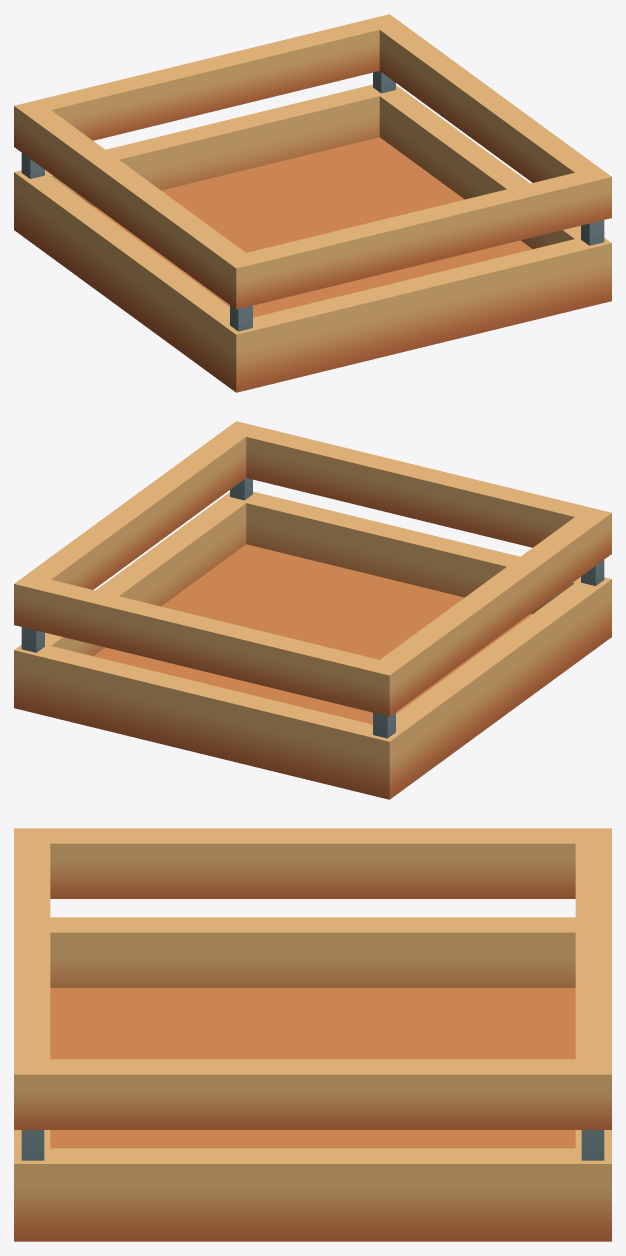
Rendered from Case.fbx.
3 views of the same model, one above another, from view 1: azimuth 30°, elevation 25°; view 2: azimuth 150°, elevation 25°; view 3: azimuth 270°, elevation 25° (orthographic). The views are drawn at different scales.
Parts seen in each view (by area): view 1: Case; view 2: Case; view 3: Case.
Part boxes in pixels (x1,y1,x2,y2): Case: (14,14,611,392); Case: (14,421,611,799); Case: (14,828,611,1241).
Bounding box in the file's own units: 0.3193 × 0.1009 × 0.3274.
